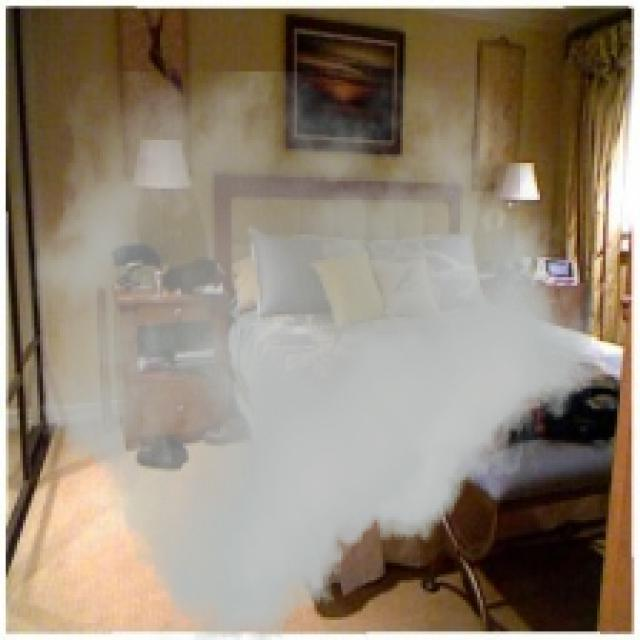Smoke: (32, 72, 594, 638)
